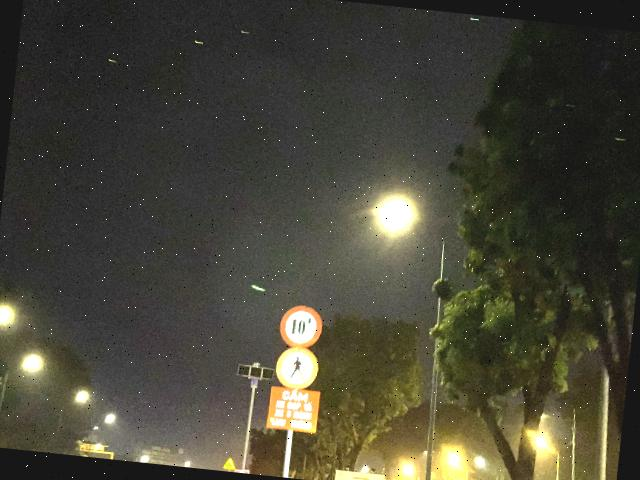cam-nguoi-di-bo: (274, 346, 320, 392)
han-che-trong-luong-xe: (278, 303, 324, 350)
